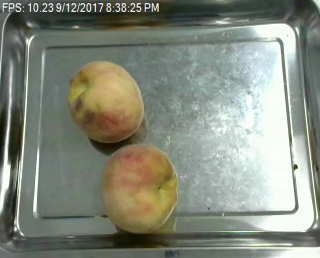Peach: (101, 143, 178, 233), (67, 58, 145, 143)
